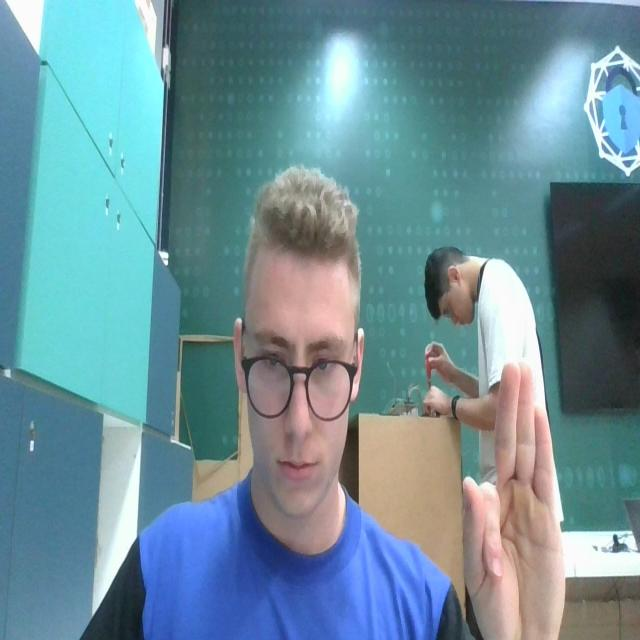F: (462, 357, 568, 640)
